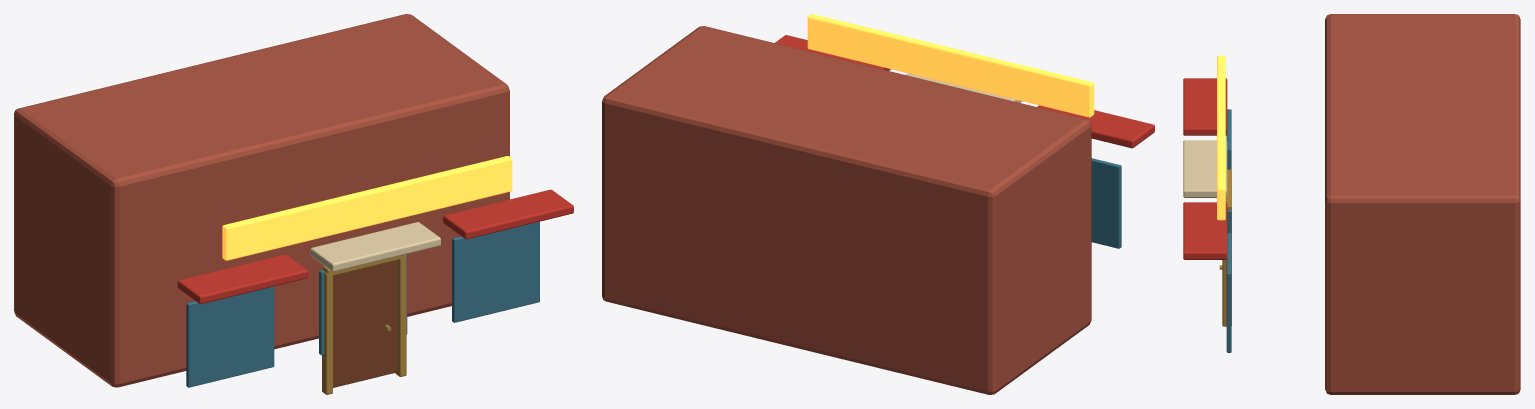
File: neighborhood_laundromat_a.glb
3 renders of one model, left to right at view 1: azimuth 30°, elevation 25°; view 2: azimuth 150°, elevation 25°; view 3: azimuth 270°, elevation 25°, orthographic. The views are drawn at different scales.
Parts seen in each view (by area): view 1: SET_Building, SET_SignBand, SET_Business_Door, SET_Window_0, SET_Window_2, SET_Awning_0, SET_Awning_2, SET_Awning_1, SET_Business_Jamb_L, SET_Business_Jamb_R, SET_Window_1; view 2: SET_Building, SET_SignBand, SET_Window_0, SET_Awning_0, SET_Awning_2; view 3: SET_Building, SET_Awning_2, SET_Awning_0, SET_Awning_1, SET_SignBand, SET_Window_2, SET_Business_Jamb_R, SET_Window_0.
Part boxes in pixels (<box>): SET_Building: <box>14,14,509,387</box>; SET_SignBand: <box>222,156,512,260</box>; SET_Business_Door: <box>333,260,397,387</box>; SET_Window_0: <box>186,286,274,387</box>; SET_Window_2: <box>452,221,539,322</box>; SET_Awning_0: <box>177,254,308,304</box>; SET_Awning_2: <box>443,189,573,239</box>; SET_Awning_1: <box>310,222,440,271</box>; SET_Business_Jamb_L: <box>322,272,332,394</box>; SET_Business_Jamb_R: <box>395,254,406,376</box>; SET_Window_1: <box>319,254,407,355</box>; SET_Building: <box>602,26,1091,394</box>; SET_SignBand: <box>807,14,1094,117</box>; SET_Window_0: <box>1091,158,1121,248</box>; SET_Awning_0: <box>1037,105,1154,148</box>; SET_Awning_2: <box>775,35,890,70</box>; SET_Building: <box>1325,14,1520,394</box>; SET_Awning_2: <box>1183,202,1227,259</box>; SET_Awning_0: <box>1183,78,1227,135</box>; SET_Awning_1: <box>1183,140,1227,197</box>; SET_SignBand: <box>1217,55,1225,220</box>; SET_Window_2: <box>1226,233,1231,352</box>; SET_Business_Jamb_R: <box>1222,210,1231,326</box>; SET_Window_0: <box>1226,109,1231,169</box>.
Size of what is drawn, in the model's own units: 9 by 4.59 by 6.9.
